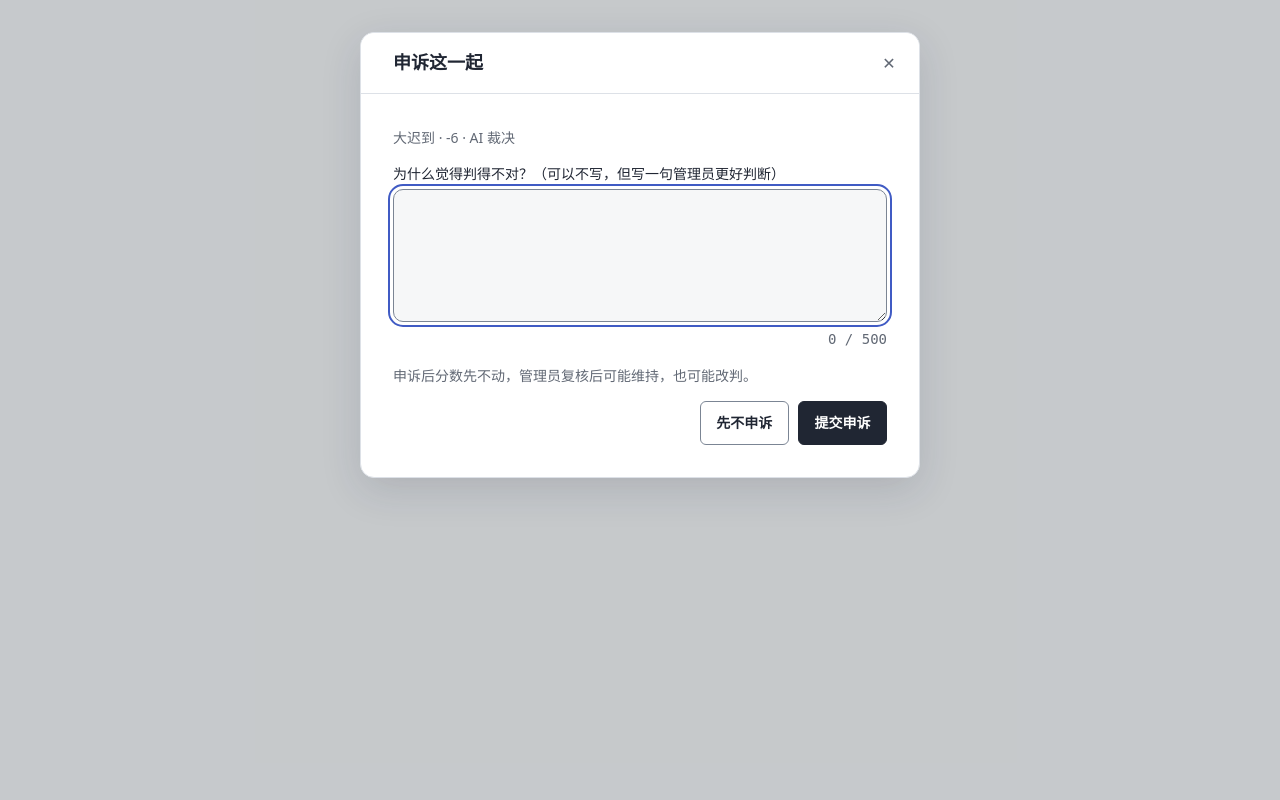
Test: AppealSheet › 清空 empties the reason and puts the caret back in it
The image size is (1280, 800).
Type "判重了" into the text box labelled "为什么觉得判得不对？（可以不写，但写一句管理员更好判断） 0 / 500". click: (640, 256)
box: [393, 189, 887, 322]
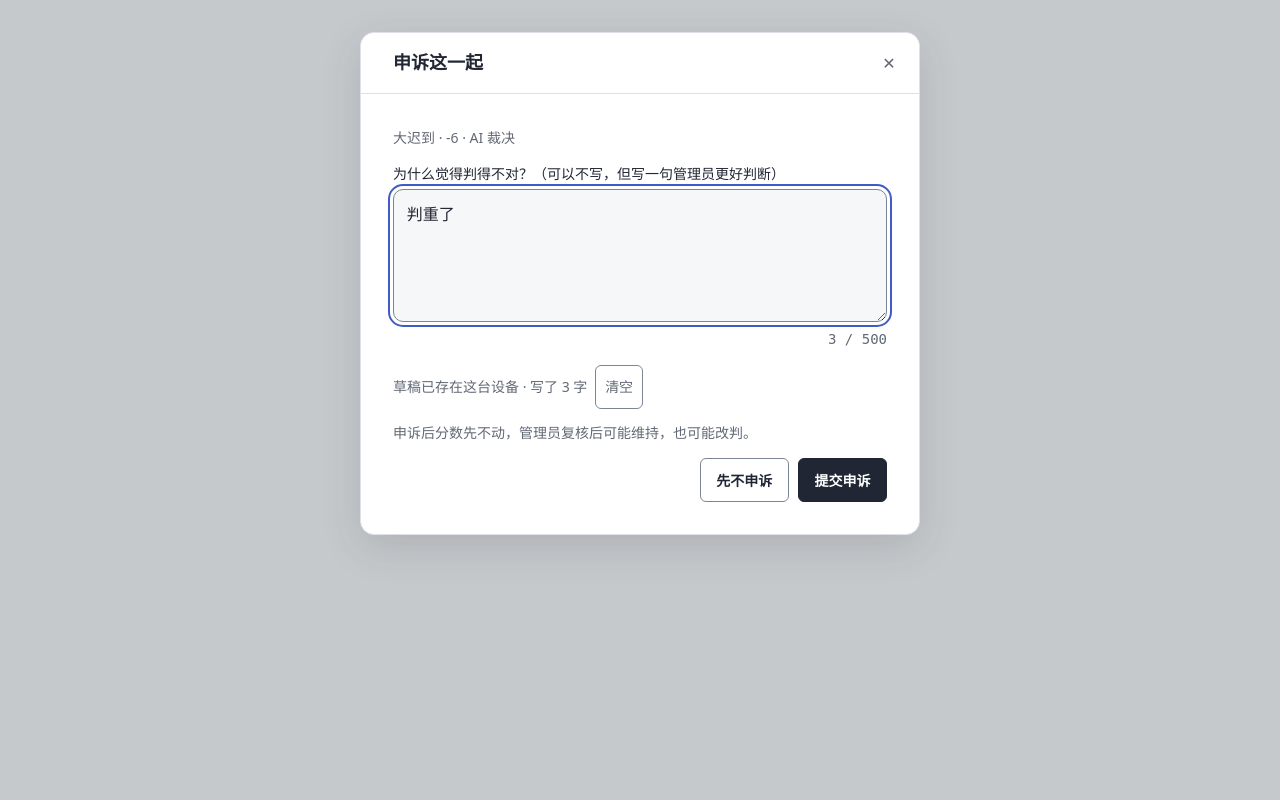
Click the button "清空". click: (619, 387)
box: [595, 365, 643, 409]
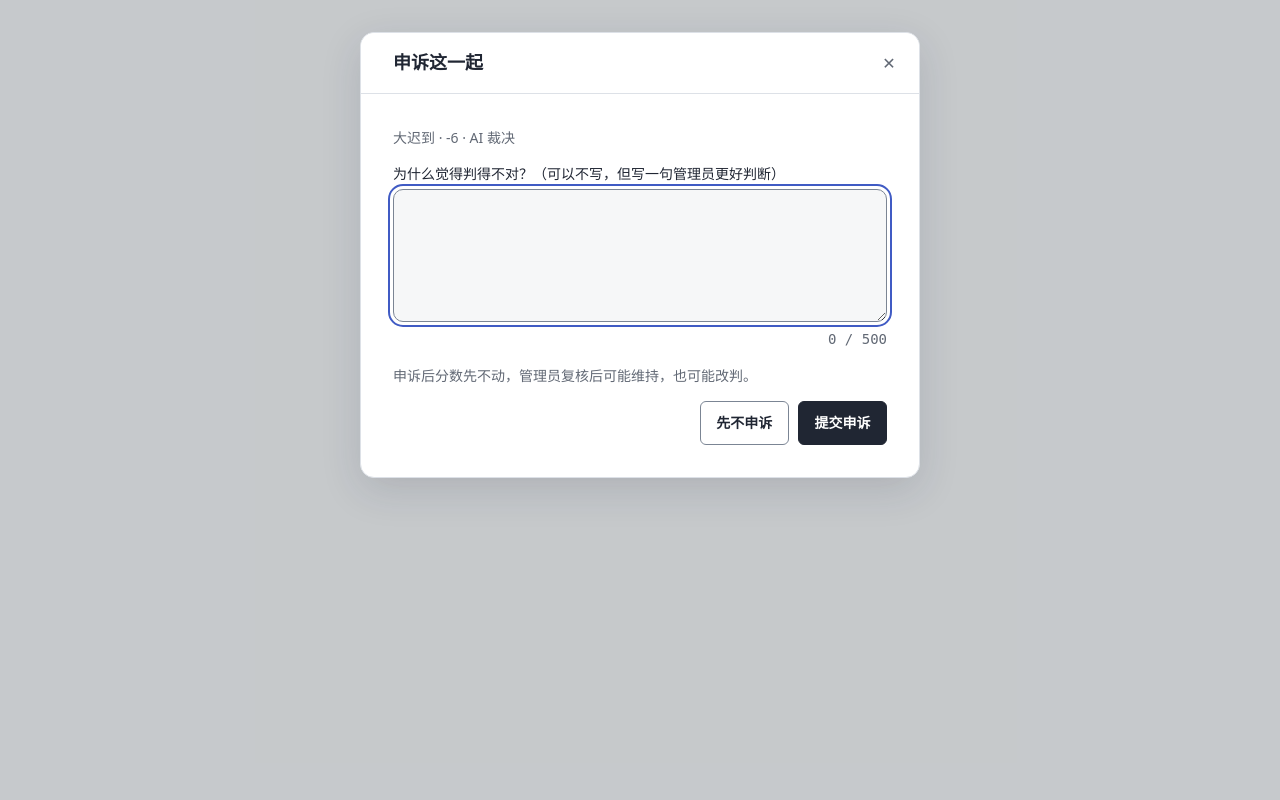
Check: the text box labelled "为什么觉得判得不对？（可以不写，但写一句管理员更好判断） 0 / 500" is empty, box [393, 189, 887, 322]
